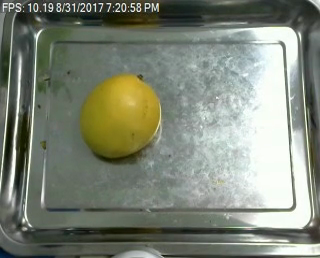Mango: (77, 73, 164, 157)
